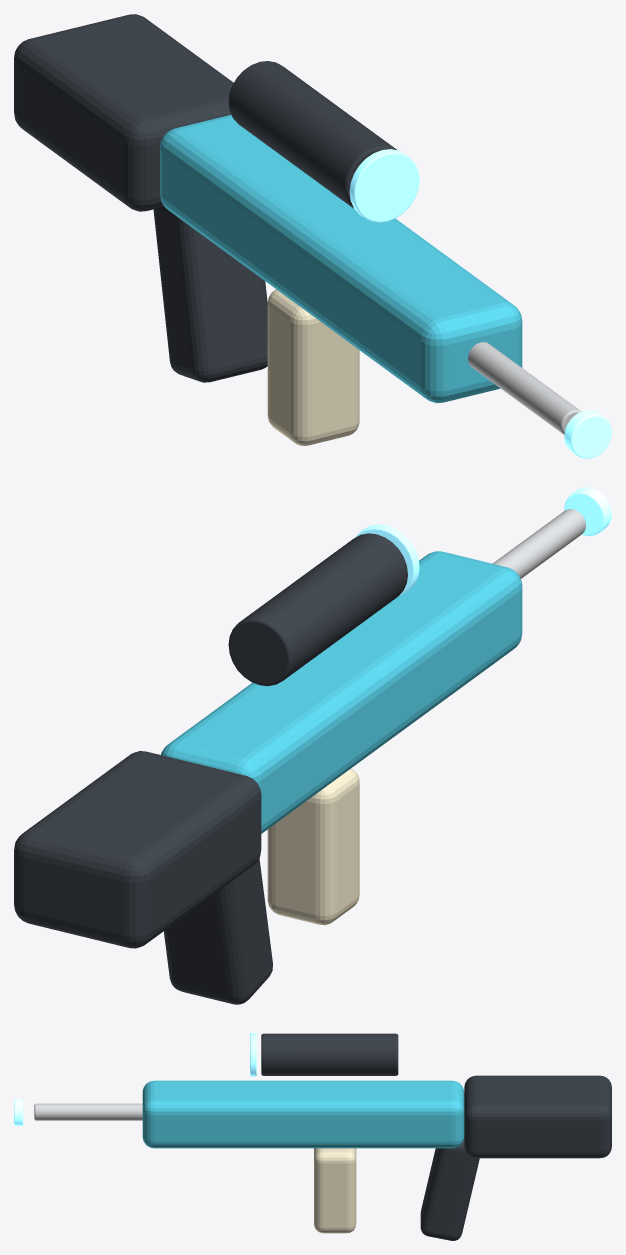
File: sniper.glb
3 views of the same model, one above another, from view 1: azimuth 30°, elevation 25°; view 2: azimuth 150°, elevation 25°; view 3: azimuth 270°, elevation 25° (orthographic). The views are drawn at different scales.
Parts seen in each view (by area): view 1: SlimBody, Stock, Grip, Magazine, ScopeTube, ScopeLens, LongBarrel, SniperMuzzleGlow; view 2: SlimBody, Stock, ScopeTube, Magazine, Grip, LongBarrel, SniperMuzzleGlow, ScopeLens; view 3: SlimBody, Stock, ScopeTube, Grip, Magazine, LongBarrel, ScopeLens.
Part boxes in pixels (box(x1,y1,x2,y2)): SlimBody: box(160, 115, 522, 403); Stock: box(14, 14, 233, 211); Grip: box(153, 204, 267, 382); Magazine: box(267, 289, 359, 445); ScopeTube: box(228, 61, 397, 208); ScopeLens: box(349, 149, 419, 222); LongBarrel: box(468, 342, 581, 434); SniperMuzzleGlow: box(564, 410, 611, 458); SlimBody: box(161, 551, 522, 833); Stock: box(14, 751, 261, 948); ScopeTube: box(228, 533, 407, 686); Magazine: box(267, 768, 359, 925); Grip: box(164, 858, 272, 1004); LongBarrel: box(493, 509, 585, 578); SniperMuzzleGlow: box(564, 487, 611, 536); ScopeLens: box(355, 524, 419, 596); SlimBody: box(142, 1080, 464, 1148); Stock: box(464, 1075, 611, 1158); ScopeTube: box(261, 1033, 398, 1075); Grip: box(420, 1137, 479, 1240); Magazine: box(314, 1148, 356, 1233); LongBarrel: box(34, 1103, 142, 1120); ScopeLens: box(250, 1033, 256, 1076).
Bounding box in the file's own units: 0.34 × 0.8283 × 2.27.
